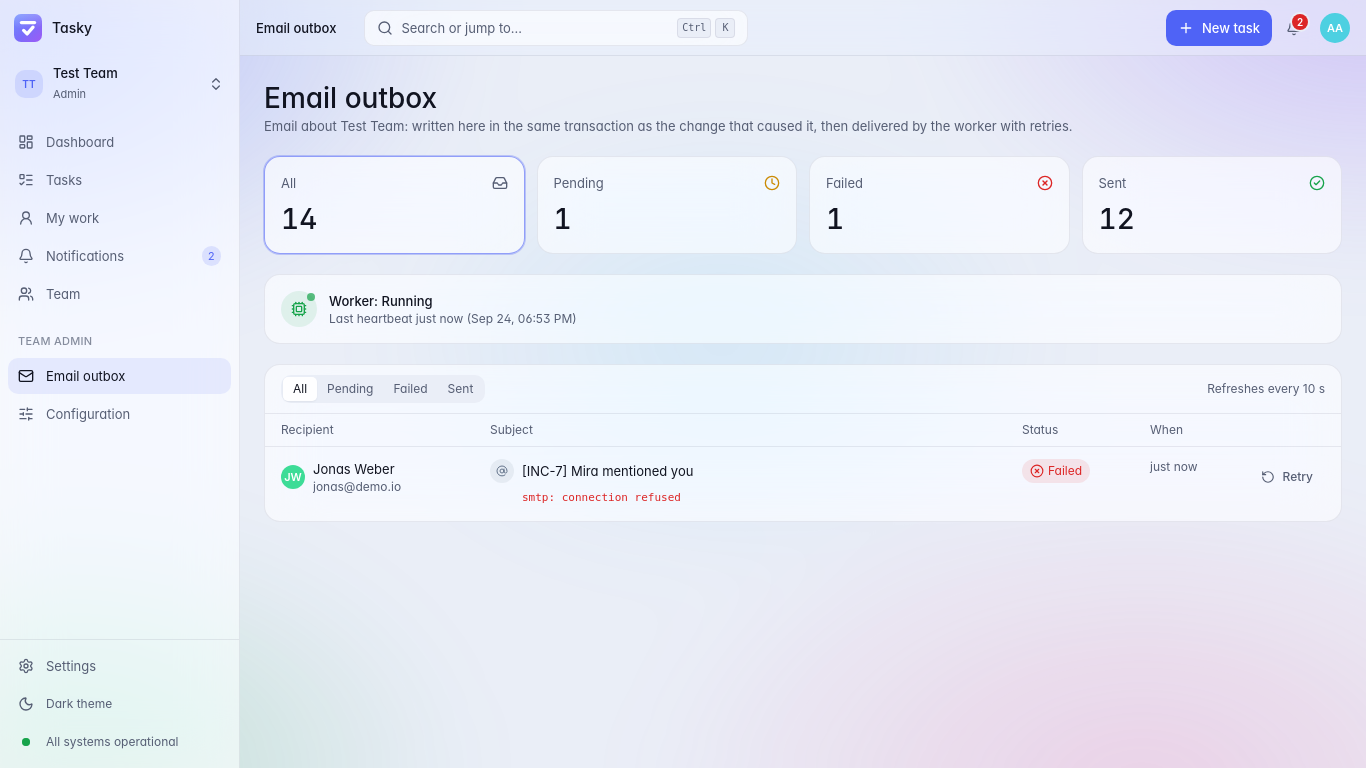
it: admin outbox › shows counts, worker health and retries a failed email
Check: the text "Worker: Running" is shown, box [329,293,433,309]
Check: the text "smtp: connection refused" is shown, box [522,491,681,504]
Click the button "Retry": (1287, 477) [1248,459,1325,495]
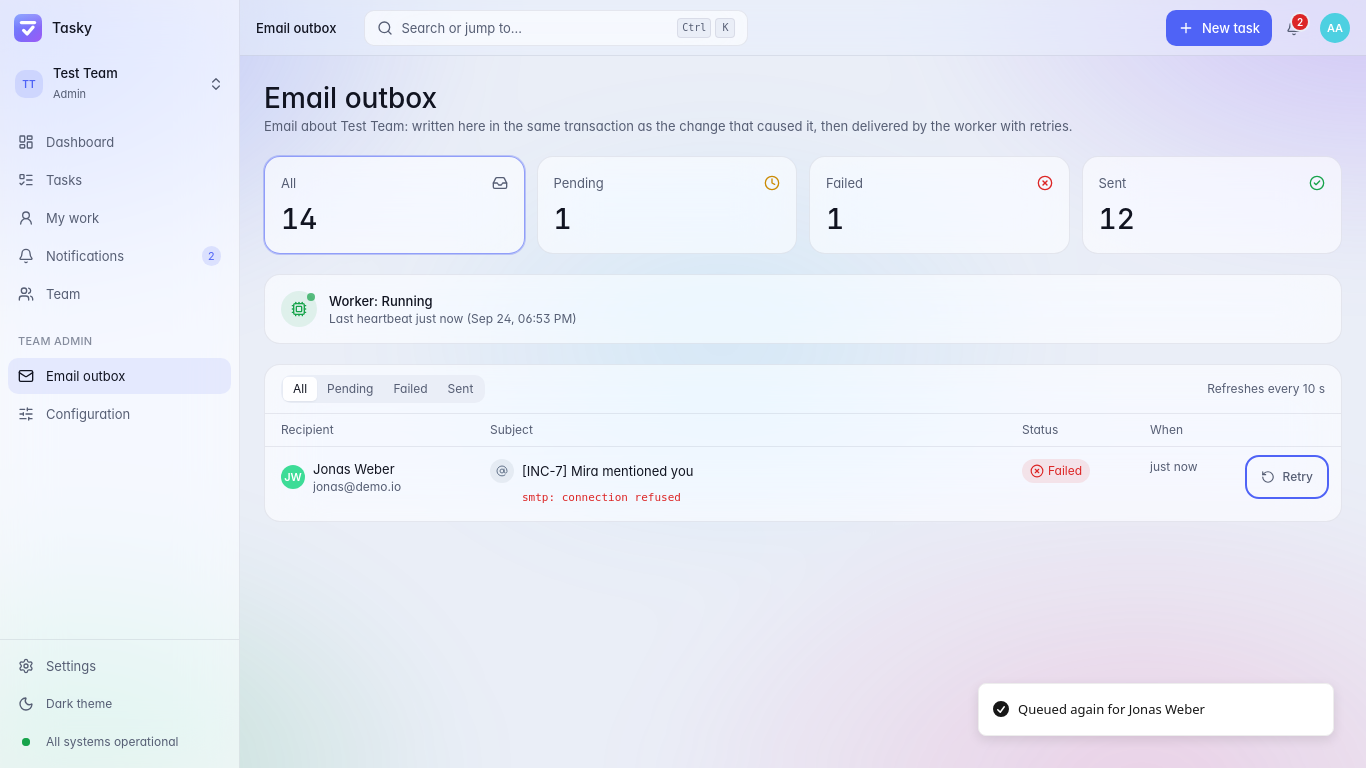
Check: the text "Queued again for Jonas Weber" is shown, box [1018,700,1205,719]
